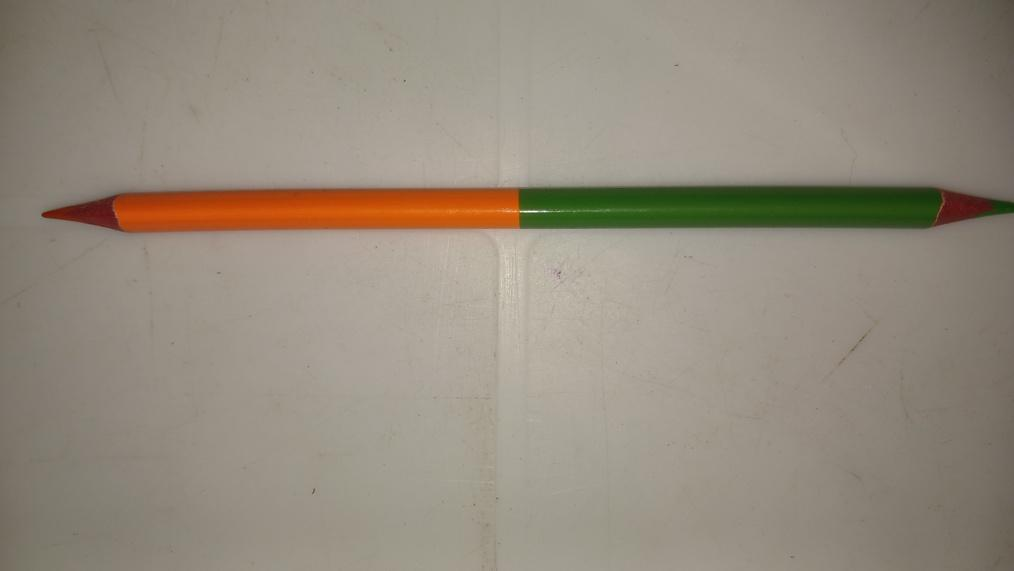Pencil: (43, 186, 1014, 227)
